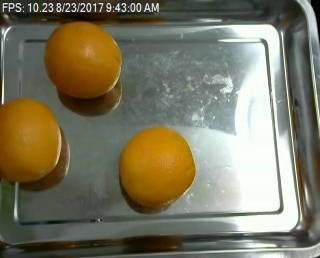Orange: (45, 20, 123, 99), (120, 126, 195, 207), (1, 97, 60, 184)
